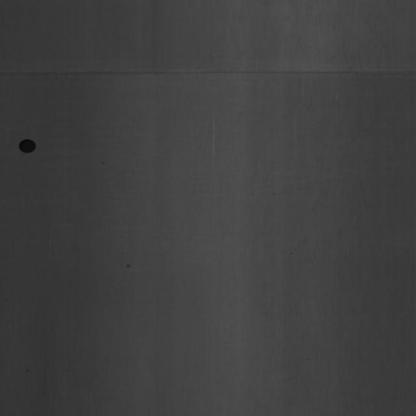punching_hole: (17, 135, 38, 159)
welding_line: (3, 60, 414, 88)
